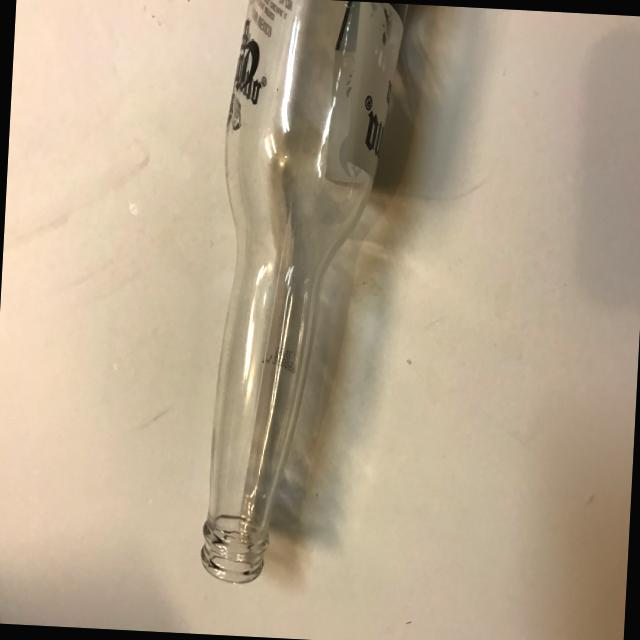Glass: (178, 0, 425, 607)
